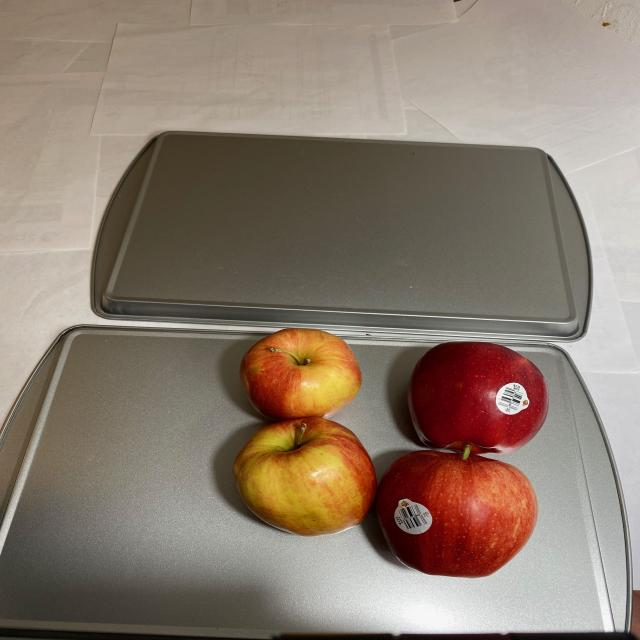Apple: (233, 328, 552, 578)
